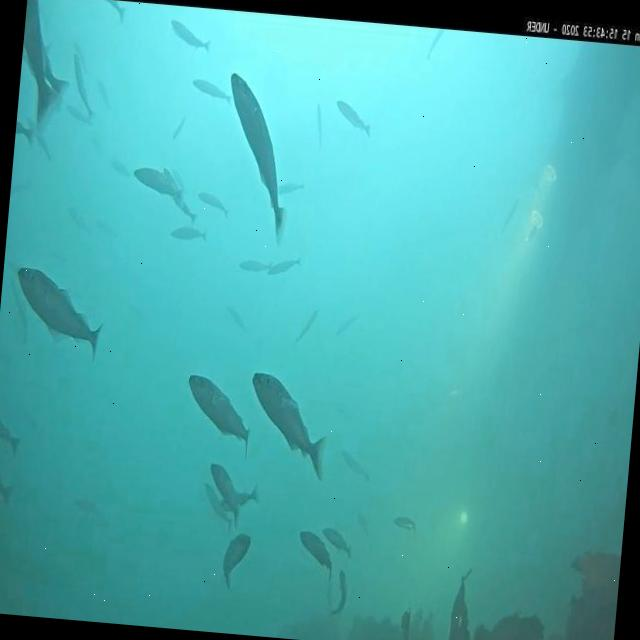fish: (220, 75, 298, 238), (244, 372, 331, 484), (10, 266, 106, 362), (16, 0, 71, 134), (184, 374, 252, 446), (205, 462, 242, 522), (130, 168, 185, 204), (37, 53, 72, 108), (67, 51, 96, 116), (297, 530, 334, 576), (220, 536, 252, 588), (199, 485, 233, 529), (333, 98, 372, 136), (169, 18, 211, 51), (22, 118, 54, 160), (0, 408, 24, 456), (319, 524, 353, 556), (220, 486, 258, 514), (337, 448, 369, 481), (190, 76, 232, 100), (0, 451, 17, 507), (330, 572, 350, 614), (171, 196, 198, 223), (197, 192, 229, 214), (498, 198, 518, 232), (296, 308, 316, 342), (268, 256, 302, 276), (424, 28, 444, 61), (334, 312, 358, 338), (72, 42, 91, 74), (160, 164, 180, 193), (65, 210, 92, 231), (72, 498, 100, 518), (238, 257, 272, 272), (93, 78, 110, 108), (313, 104, 324, 148), (105, 1, 126, 24), (168, 226, 204, 239), (276, 178, 302, 196), (226, 307, 244, 330), (16, 122, 34, 144), (392, 516, 416, 532), (170, 168, 189, 188), (354, 514, 370, 536), (108, 157, 130, 173), (172, 116, 185, 138)
